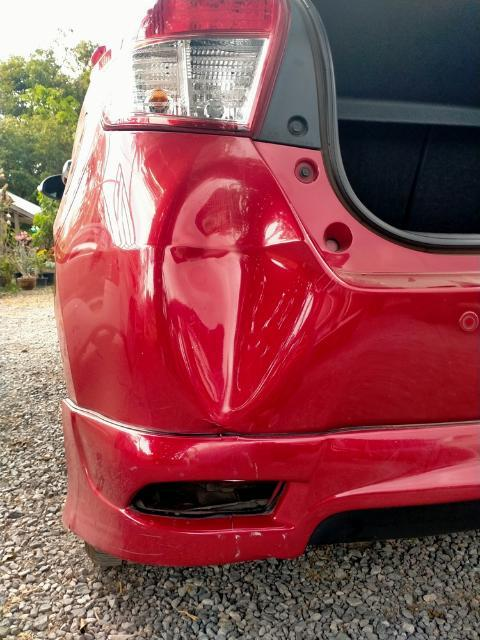dent: (155, 157, 330, 414)
